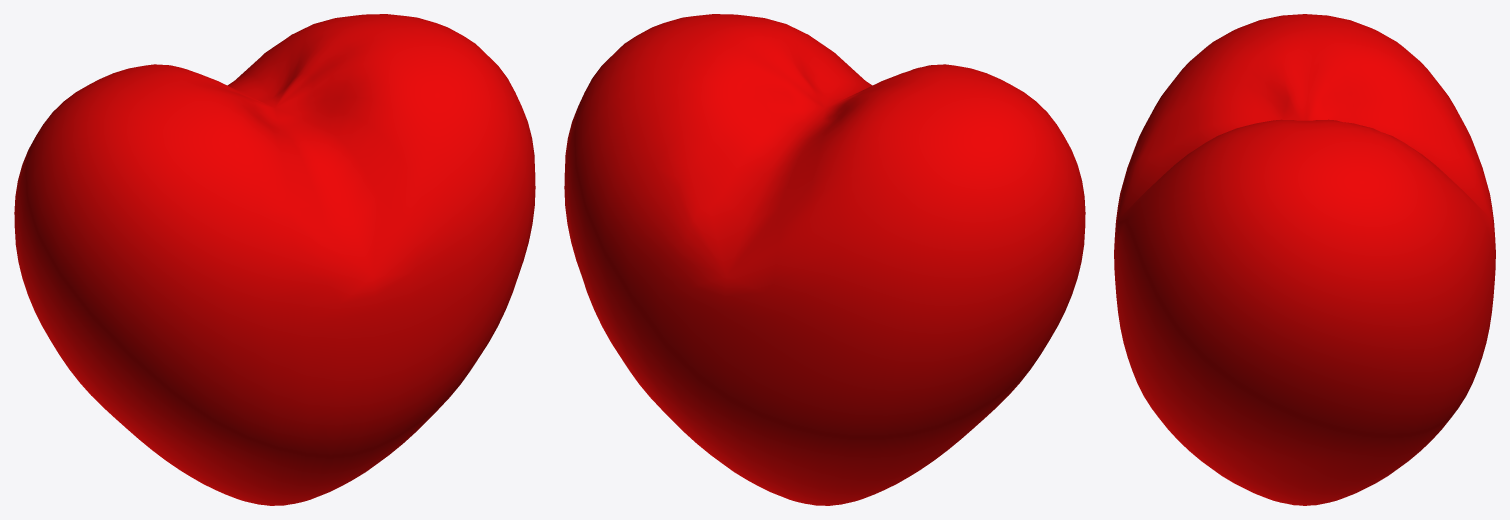
Rendered from heart.fbx.
3 views of the same model, side by side, from view 1: azimuth 30°, elevation 25°; view 2: azimuth 150°, elevation 25°; view 3: azimuth 270°, elevation 25° (orthographic). The views are drawn at different scales.
Parts seen in each view (by area): view 1: polySurface1; view 2: polySurface1; view 3: polySurface1.
Boxes of the visible parts, bbox=[...] form: polySurface1: bbox=[14, 14, 535, 505]; polySurface1: bbox=[564, 14, 1085, 505]; polySurface1: bbox=[1114, 14, 1495, 505].
Size of the model in its own units: 2.42 by 2.15 by 1.78.
